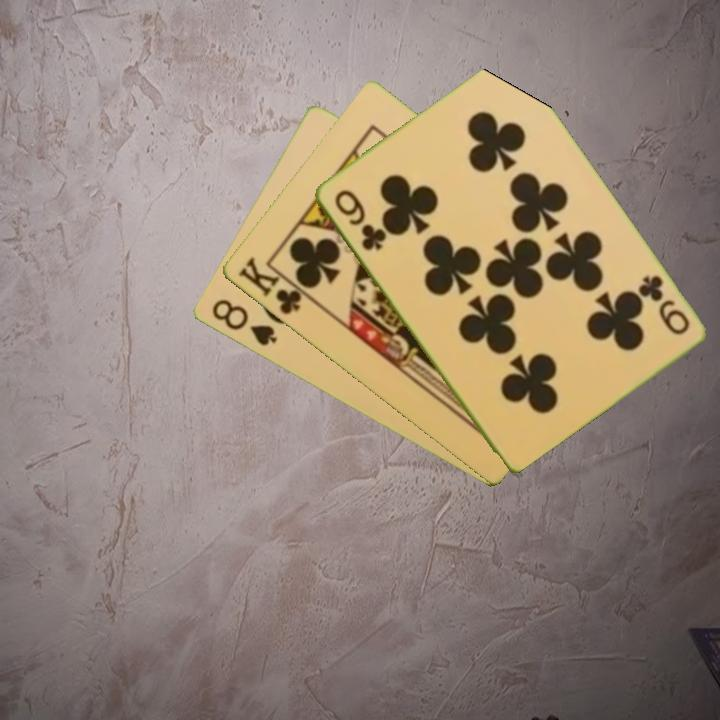8s: (207, 295, 280, 349)
9c: (633, 271, 693, 338), (330, 185, 387, 254)
Kc: (234, 253, 314, 318)
